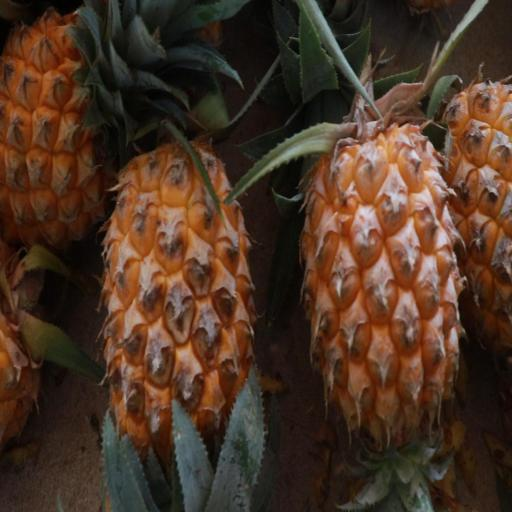Pineapple - v8 v1: (299, 113, 468, 512), (93, 122, 262, 512), (0, 0, 172, 255)
